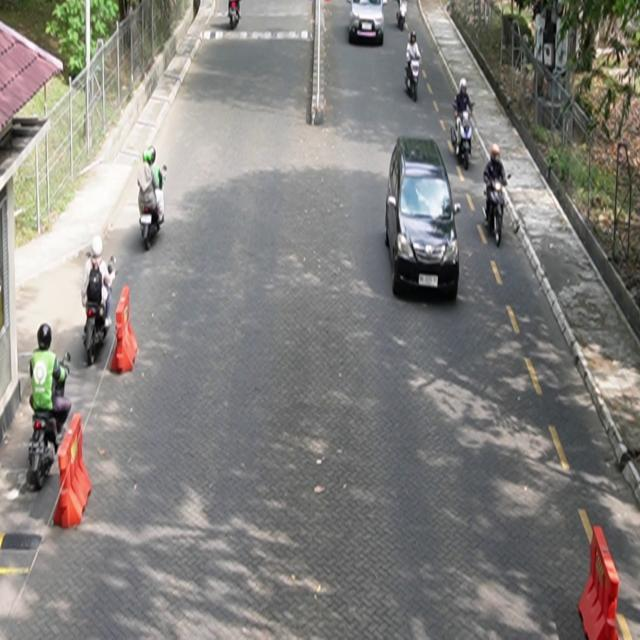car: (386, 136, 462, 302)
